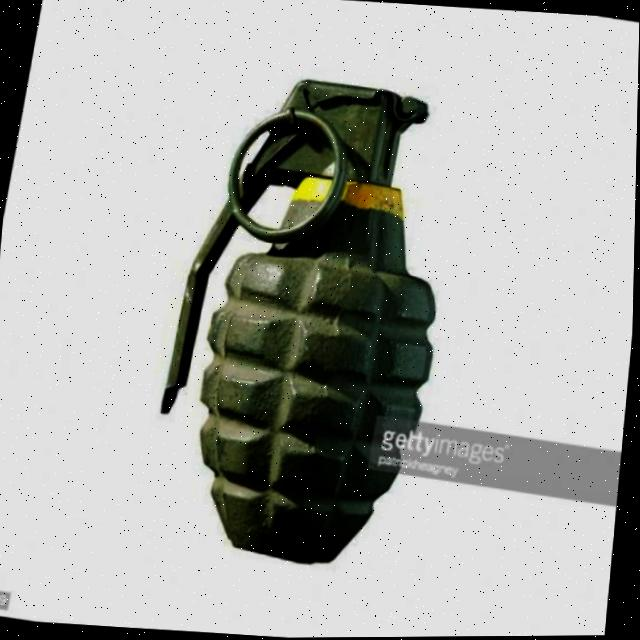grenade: (129, 56, 493, 593)
